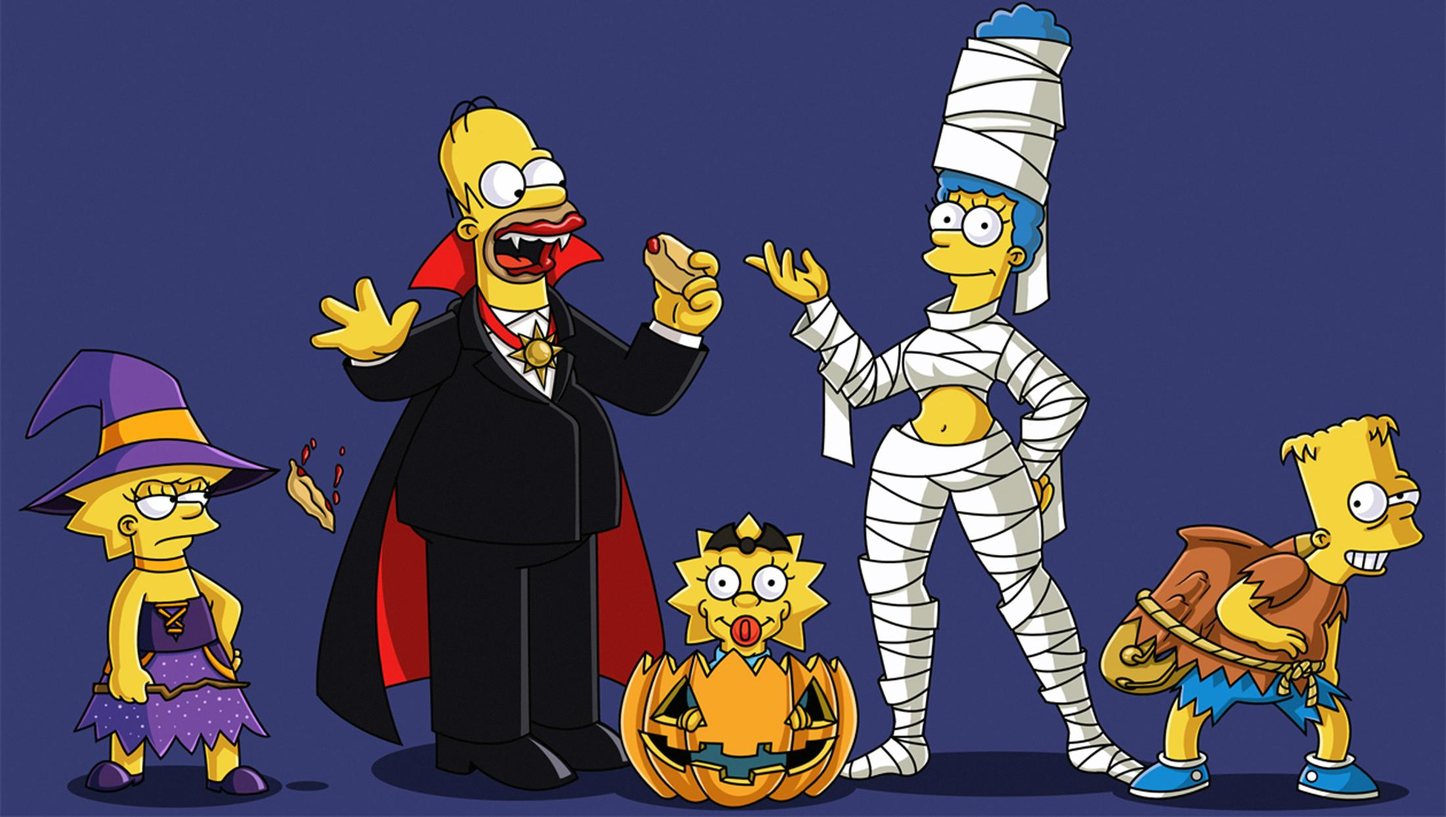Bart: (1091, 388, 1431, 807)
Homer: (315, 84, 727, 791)
Lisa: (11, 339, 315, 807)
Maggie: (621, 483, 859, 809)
Marge: (762, 13, 1172, 817)
